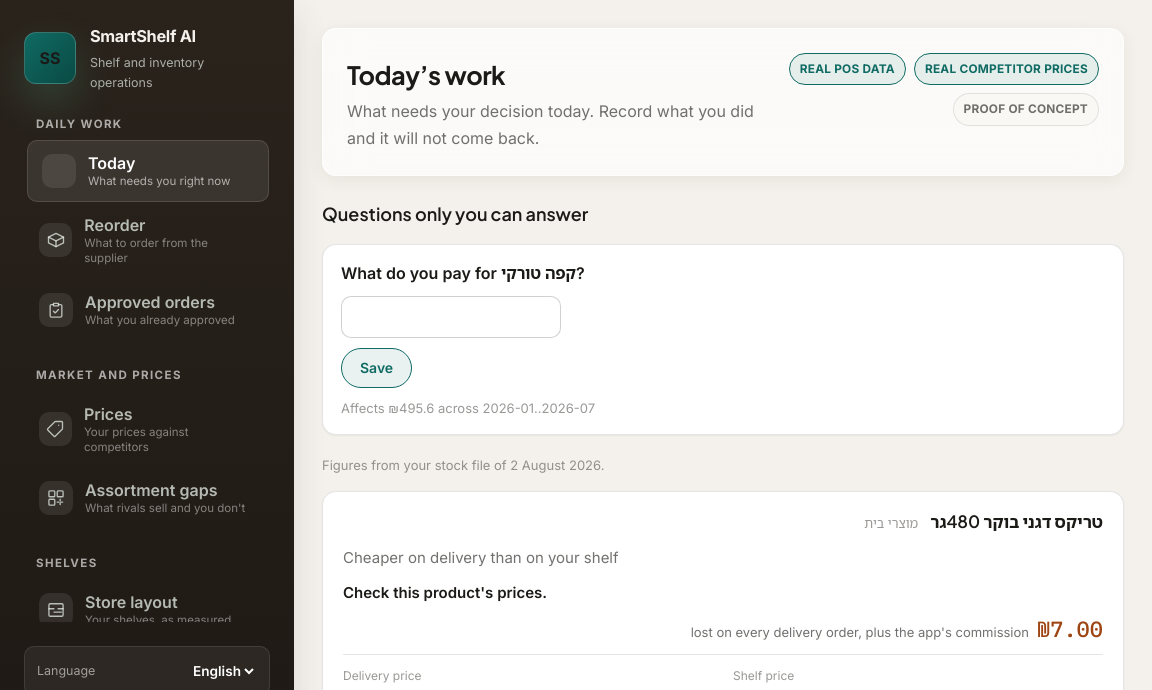
Test: the owner's cost questions on Today › records the owner's answer when he saves it there
Type "31.5" into the field labelled "What do you pay for קפה טורקי?" at (451, 317), box [341,296,561,338]
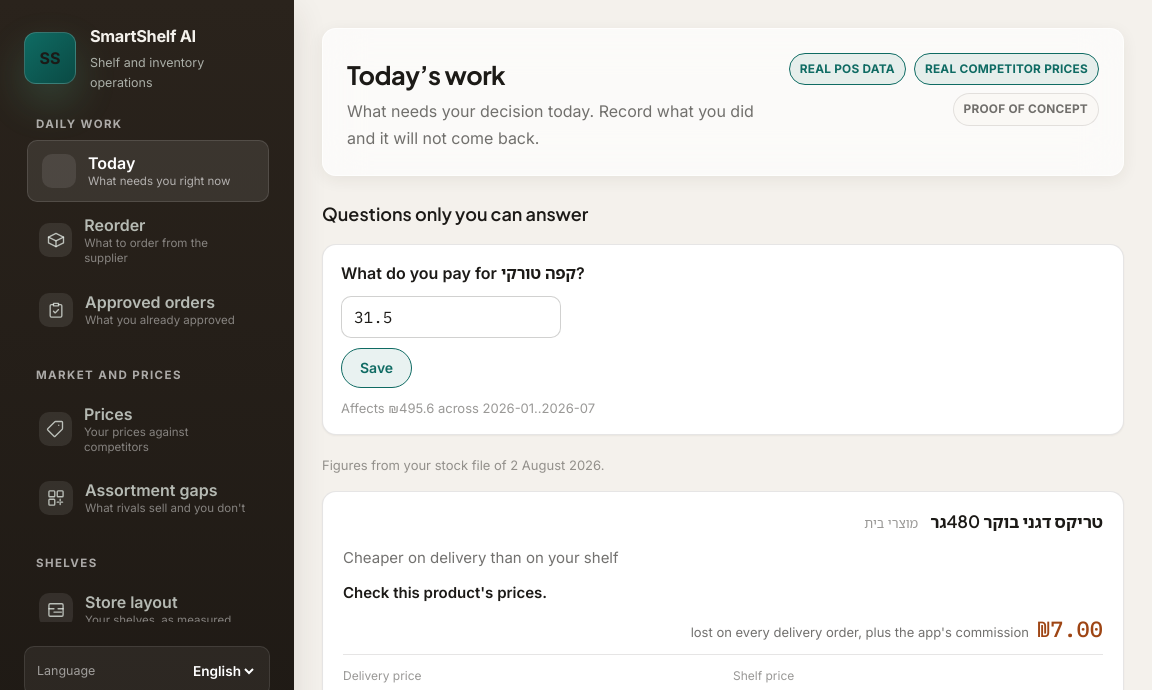
Click the button "Save" at (377, 368), box [341,348,412,388]
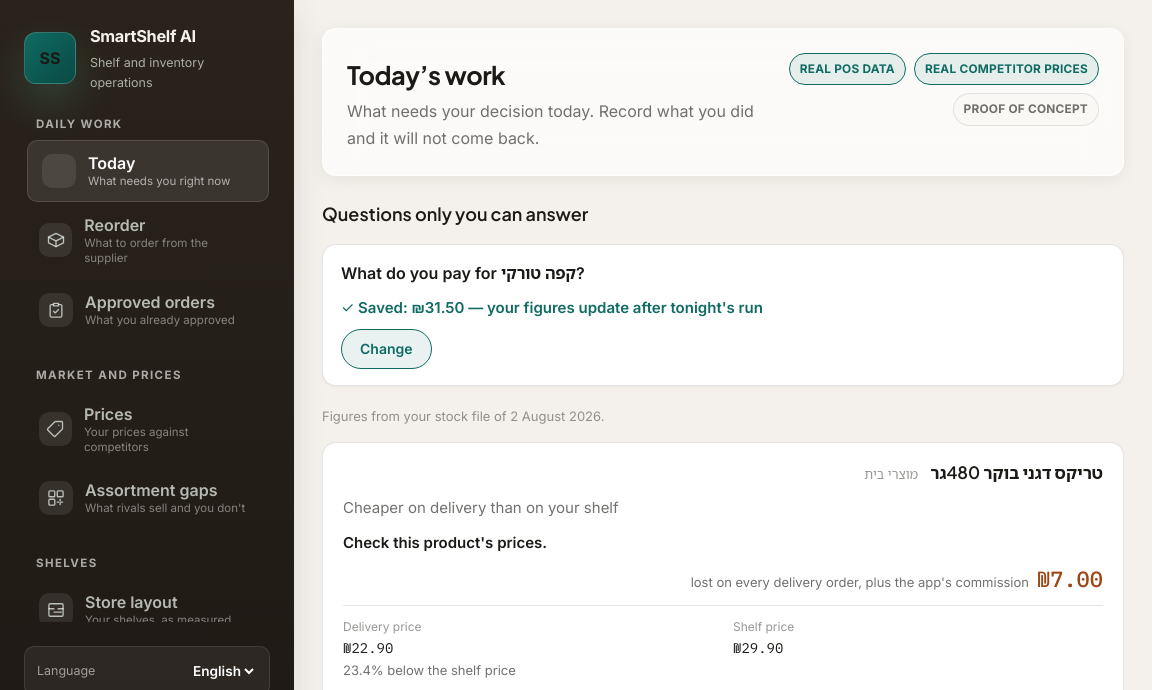
Expected: the message "✓ Saved:  ₪31.50  — your figures update after tonight's run" is shown, [341,298,763,317]
